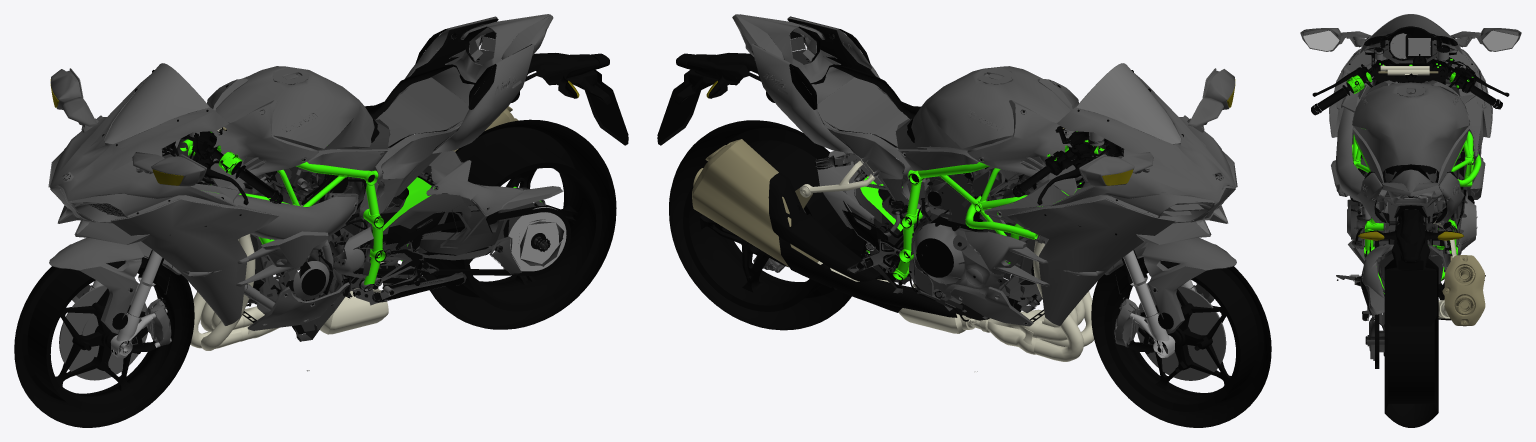
3 views of the same model, side by side, from view 1: azimuth 30°, elevation 25°; view 2: azimuth 150°, elevation 25°; view 3: azimuth 270°, elevation 25° (orthographic). The views are drawn at different scales.
Parts seen in each view (by area): view 1: Mesh_0018.rip_23, 0000_Mesh_0170.rip_24, Mesh_0007.rip_19, Mesh_0006.rip_17, Mesh_0010.rip_13, 0001_Mesh_0170.rip_25, Mesh_0009.rip_15, Mesh_0000.rip_21, Mesh_0123.rip_12, Mesh_0004.rip_20, 0002_Mesh_0170.rip_26, Mesh_0005.rip_18 (+4 smaller); view 2: Mesh_0018.rip_23, 0000_Mesh_0170.rip_24, Mesh_0000.rip_21, Mesh_0007.rip_19, Mesh_0006.rip_17, Mesh_0010.rip_13, Mesh_0001.rip_14, Mesh_0009.rip_15, 0001_Mesh_0170.rip_25, Mesh_0123.rip_12, Mesh_0004.rip_20, 0002_Mesh_0170.rip_26 (+3 smaller); view 3: Mesh_0018.rip_23, 0000_Mesh_0170.rip_24, Mesh_0166.rip_22, Mesh_0004.rip_20, Mesh_0007.rip_19, Mesh_0001.rip_14, Mesh_0010.rip_13, Mesh_0123.rip_12, 0001_Mesh_0170.rip_25, Mesh_0005.rip_18, Mesh_0023.rip_4, 0002_Mesh_0170.rip_26 (+3 smaller).
Part boxes in pixels (bbox=[...]): Mesh_0018.rip_23: bbox=[48, 14, 562, 346]; 0000_Mesh_0170.rip_24: bbox=[63, 18, 564, 358]; Mesh_0007.rip_19: bbox=[436, 139, 602, 311]; Mesh_0006.rip_17: bbox=[27, 260, 182, 412]; Mesh_0010.rip_13: bbox=[422, 119, 616, 329]; 0001_Mesh_0170.rip_25: bbox=[64, 18, 550, 352]; Mesh_0009.rip_15: bbox=[14, 257, 194, 427]; Mesh_0000.rip_21: bbox=[190, 234, 388, 350]; Mesh_0123.rip_12: bbox=[51, 22, 550, 233]; Mesh_0004.rip_20: bbox=[112, 53, 628, 329]; 0002_Mesh_0170.rip_26: bbox=[91, 25, 549, 354]; Mesh_0005.rip_18: bbox=[50, 68, 206, 186]; Mesh_0018.rip_23: bbox=[732, 14, 1237, 346]; 0000_Mesh_0170.rip_24: bbox=[754, 23, 1223, 357]; Mesh_0000.rip_21: bbox=[768, 159, 1094, 361]; Mesh_0007.rip_19: bbox=[683, 140, 852, 311]; Mesh_0006.rip_17: bbox=[1104, 261, 1258, 411]; Mesh_0010.rip_13: bbox=[669, 120, 868, 330]; Mesh_0001.rip_14: bbox=[692, 139, 818, 266]; Mesh_0009.rip_15: bbox=[1091, 257, 1271, 427]; 0001_Mesh_0170.rip_25: bbox=[754, 18, 1221, 352]; Mesh_0123.rip_12: bbox=[735, 22, 1234, 297]; Mesh_0004.rip_20: bbox=[657, 53, 1173, 329]; 0002_Mesh_0170.rip_26: bbox=[752, 25, 1194, 352]; Mesh_0018.rip_23: bbox=[1329, 36, 1492, 314]; 0000_Mesh_0170.rip_24: bbox=[1336, 37, 1485, 360]; Mesh_0166.rip_22: bbox=[1311, 26, 1509, 115]; Mesh_0004.rip_20: bbox=[1358, 209, 1463, 326]; Mesh_0007.rip_19: bbox=[1388, 321, 1434, 403]; Mesh_0001.rip_14: bbox=[1442, 255, 1485, 326]; Mesh_0010.rip_13: bbox=[1384, 258, 1438, 427]; Mesh_0123.rip_12: bbox=[1369, 14, 1451, 203]; 0001_Mesh_0170.rip_25: bbox=[1337, 44, 1484, 356]; Mesh_0005.rip_18: bbox=[1300, 28, 1521, 51]; Mesh_0023.rip_4: bbox=[1303, 30, 1518, 50]; 0002_Mesh_0170.rip_26: bbox=[1349, 37, 1474, 343].
Bounding box in the file's own units: 2.57 × 1.41 × 1.04.
